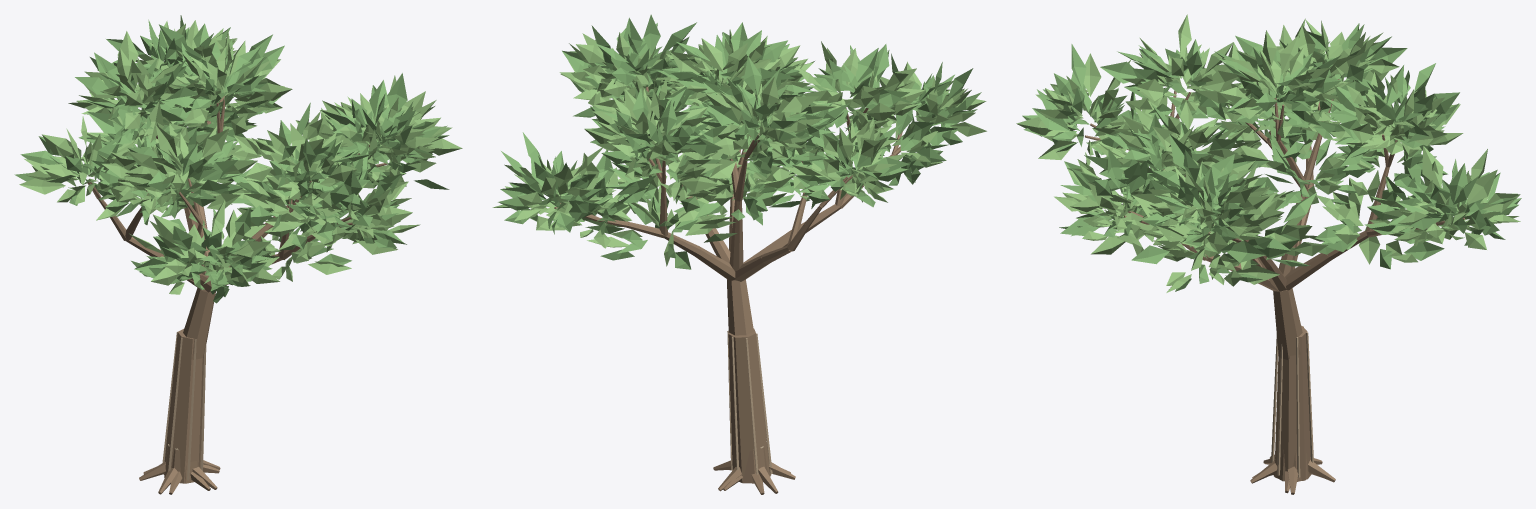
The model's file is plant-kouzo-b.glb.
The picture shows the model from 3 angles, left to right: view 1: azimuth 30°, elevation 25°; view 2: azimuth 150°, elevation 25°; view 3: azimuth 270°, elevation 25°; orthographic projection. The views are drawn at different scales.
Parts seen in each view (by area): view 1: plant-kouzo-b_standing_leafB, plant-kouzo-b_standing_kouzoLeaf, plant-kouzo-b_standing_bark, plant-kouzo-b_standing_barkLight, plant-kouzo-b_stump_bark; view 2: plant-kouzo-b_standing_kouzoLeaf, plant-kouzo-b_standing_leafB, plant-kouzo-b_standing_bark, plant-kouzo-b_standing_barkLight, plant-kouzo-b_stump_bark; view 3: plant-kouzo-b_standing_leafB, plant-kouzo-b_standing_kouzoLeaf, plant-kouzo-b_standing_bark, plant-kouzo-b_standing_barkLight, plant-kouzo-b_stump_bark.
Part boxes in pixels (<box>): plant-kouzo-b_standing_leafB: <box>19,20,462,294</box>; plant-kouzo-b_standing_kouzoLeaf: <box>14,15,449,303</box>; plant-kouzo-b_standing_bark: <box>87,96,387,494</box>; plant-kouzo-b_standing_barkLight: <box>162,331,206,480</box>; plant-kouzo-b_stump_bark: <box>143,445,219,494</box>; plant-kouzo-b_standing_kouzoLeaf: <box>498,14,981,269</box>; plant-kouzo-b_standing_leafB: <box>492,29,986,266</box>; plant-kouzo-b_standing_bark: <box>554,86,902,493</box>; plant-kouzo-b_standing_barkLight: <box>727,330,772,474</box>; plant-kouzo-b_stump_bark: <box>723,447,790,494</box>; plant-kouzo-b_standing_leafB: <box>1016,14,1520,292</box>; plant-kouzo-b_standing_kouzoLeaf: <box>1022,23,1521,291</box>; plant-kouzo-b_standing_bark: <box>1085,79,1464,494</box>; plant-kouzo-b_standing_barkLight: <box>1271,326,1313,477</box>; plant-kouzo-b_stump_bark: <box>1252,450,1322,493</box>.
Bounding box in the file's own units: 4.83 × 5.17 × 5.31.
